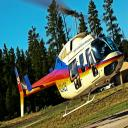helicopter: (12, 8, 126, 126)
